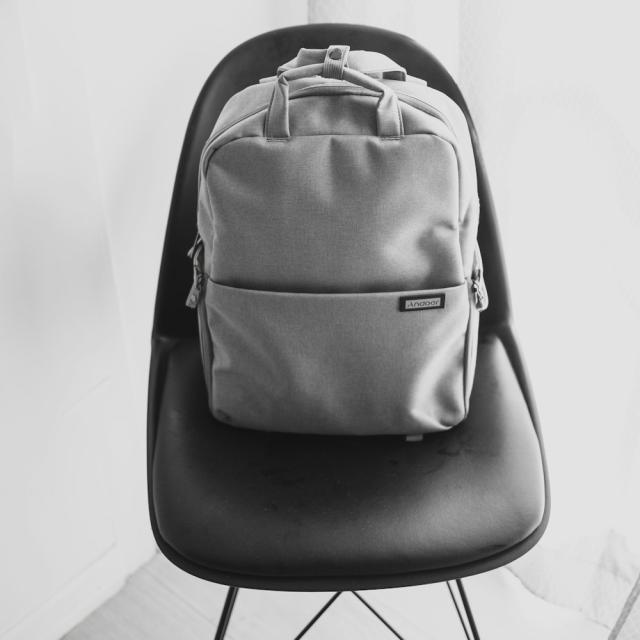backpack: (187, 45, 489, 440)
